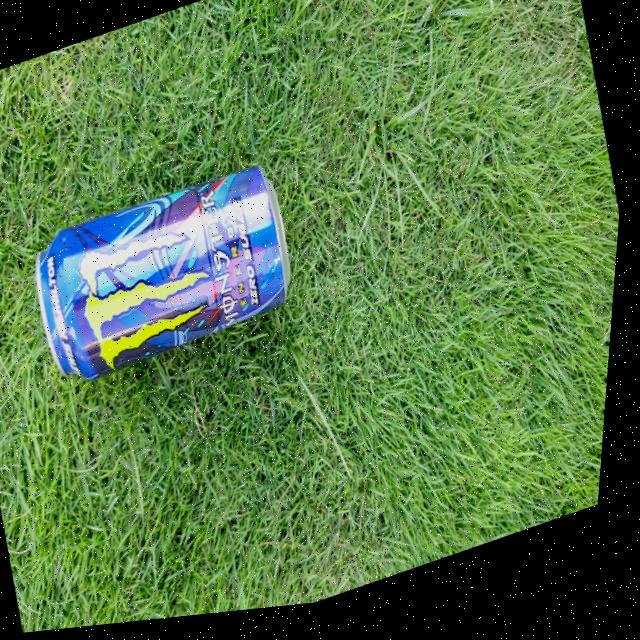Monster LH44: (5, 146, 321, 413)
